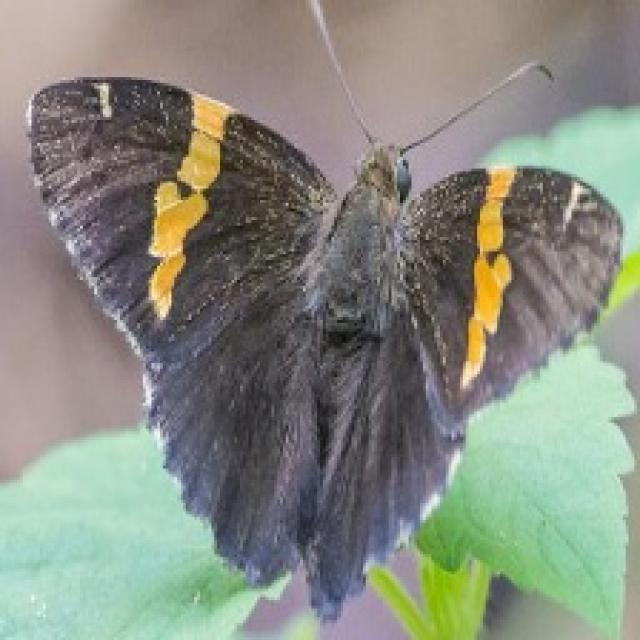butterfly: (23, 0, 623, 623)
